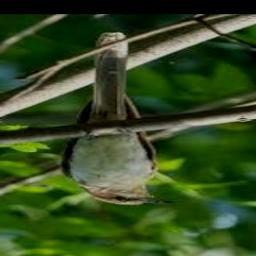Cuckoo: (61, 35, 178, 205)
